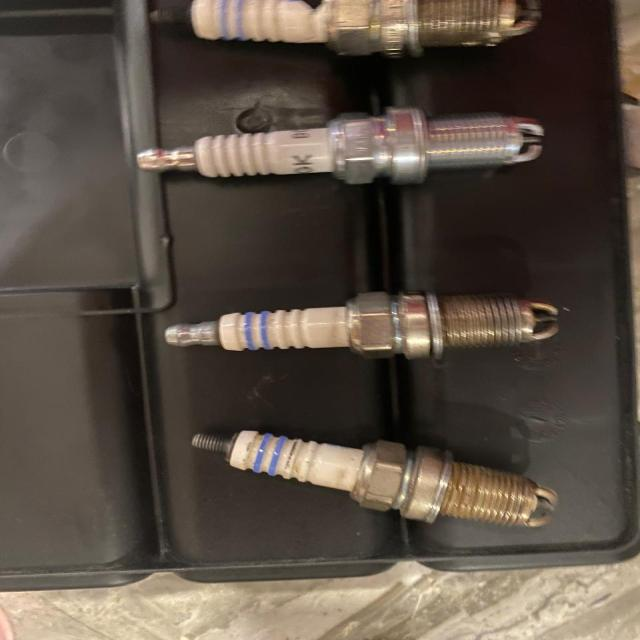spark-plug: (187, 428, 570, 538), (125, 100, 552, 194), (152, 288, 573, 365)
